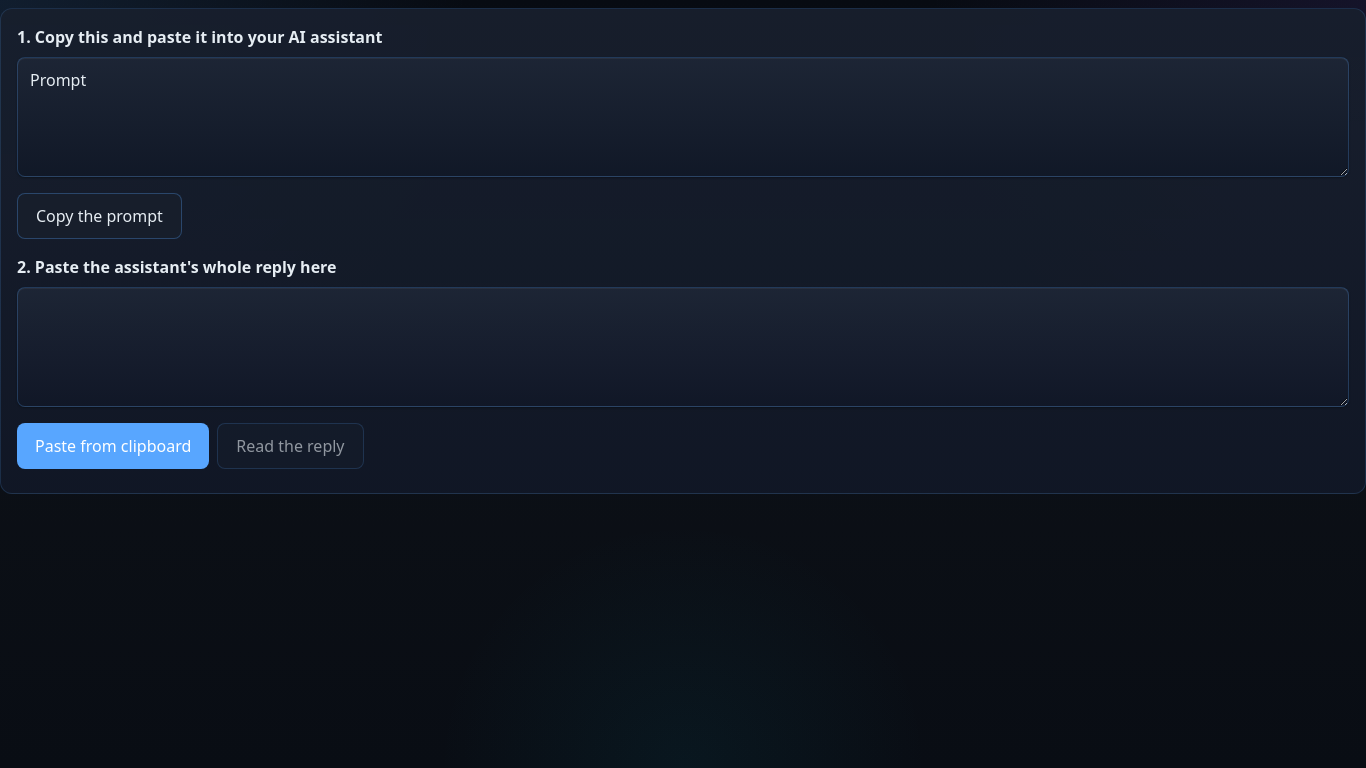
Test: PromptRound › pastes the reply from the clipboard and reads it in one click, and says so when the browser will not share it
Click the button "Paste from clipboard" at (113, 446), box x1=17 y1=423 x2=209 y2=469
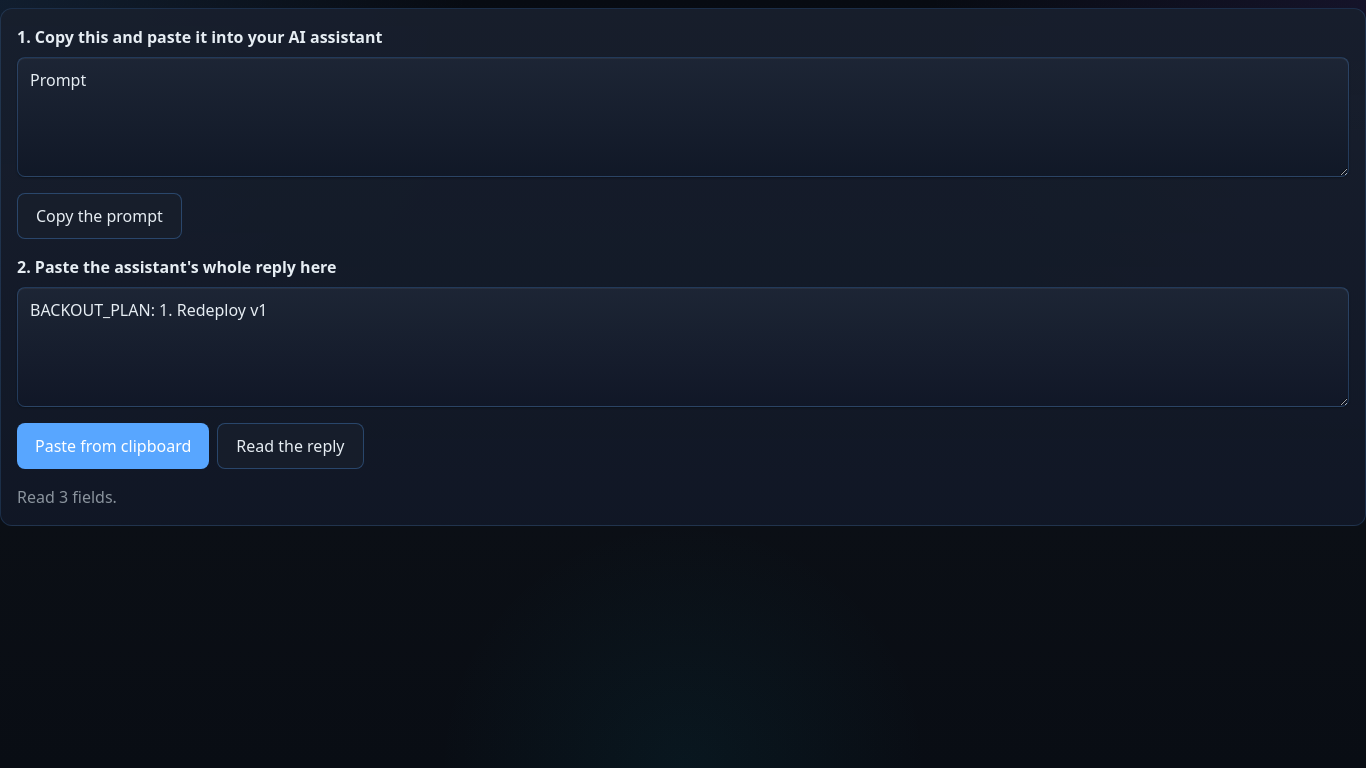
Expected: the text "Read 3 fields." is shown, x1=17 y1=486 x2=117 y2=508
Expected: the text box labelled "2. Paste the assistant's whole reply here" holds "BACKOUT_PLAN: 1. Redeploy v1", x1=17 y1=287 x2=1349 y2=407
Click the button "Paste from clipboard" at (113, 446), box x1=17 y1=423 x2=209 y2=469
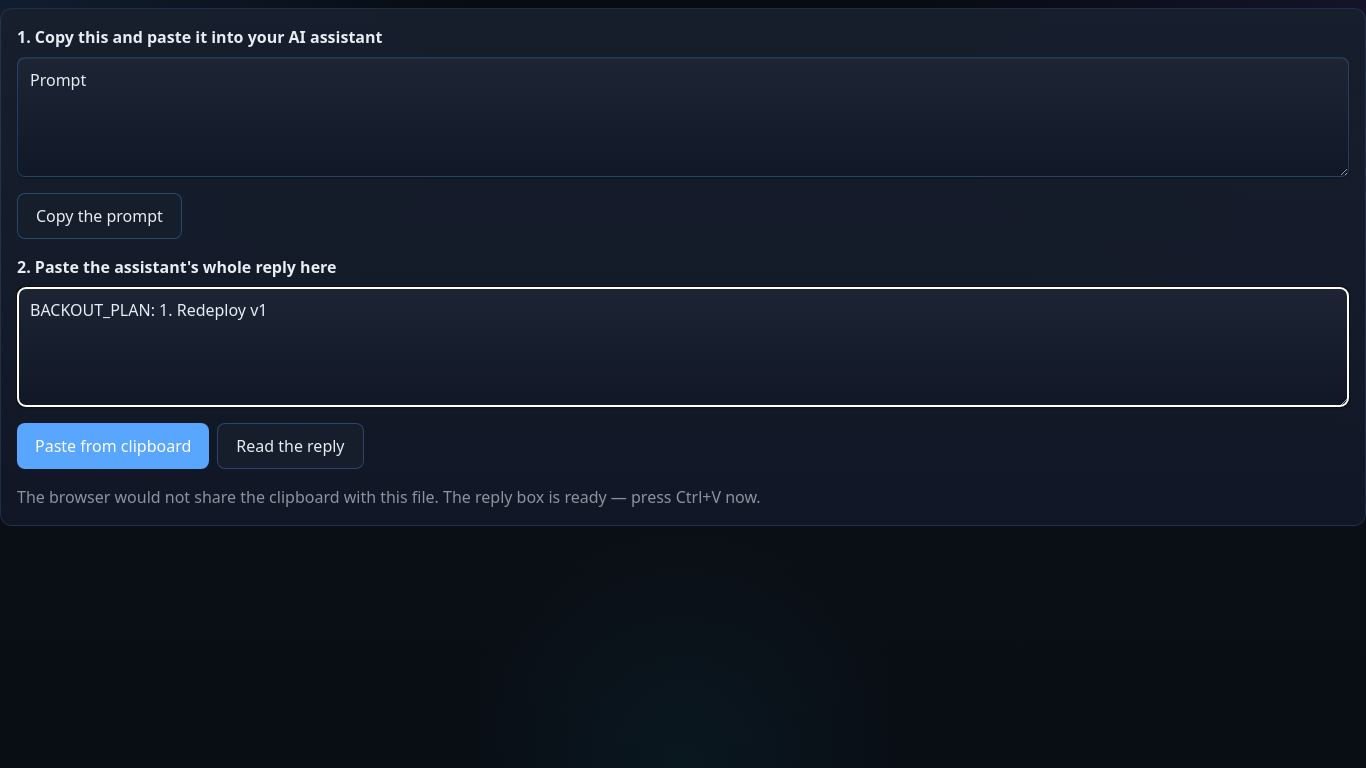
Expected: the text "would not share the clipboard" is shown, x1=17 y1=486 x2=761 y2=508
